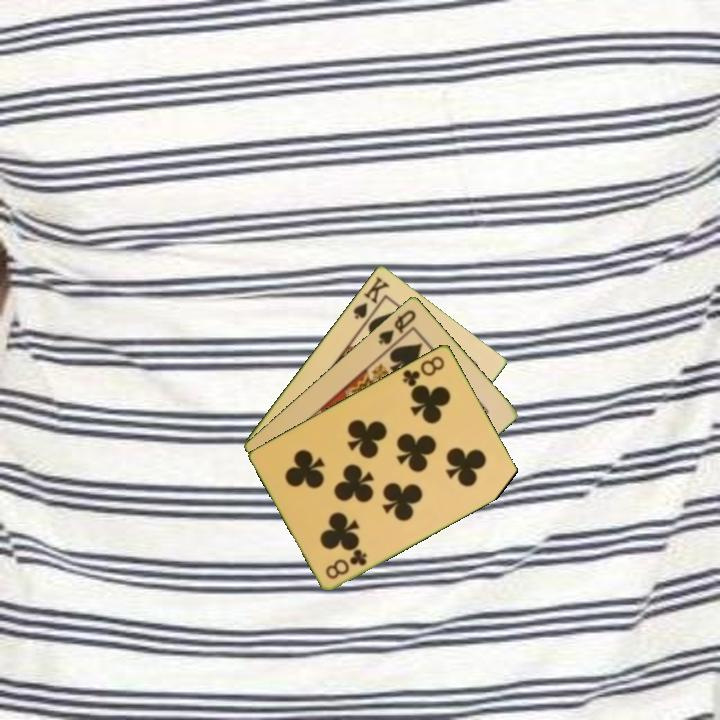8c: (399, 352, 448, 389), (322, 545, 370, 582)
Ks: (349, 272, 392, 327)
Qs: (375, 306, 419, 347)
